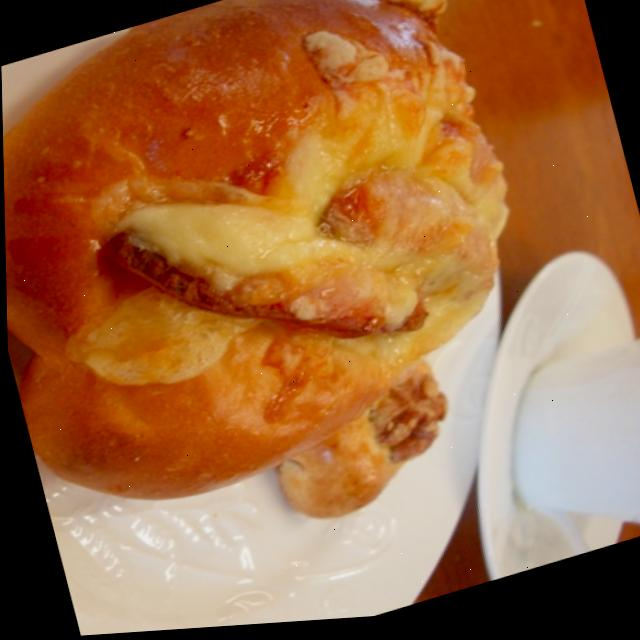三明治: (0, 0, 572, 545)
